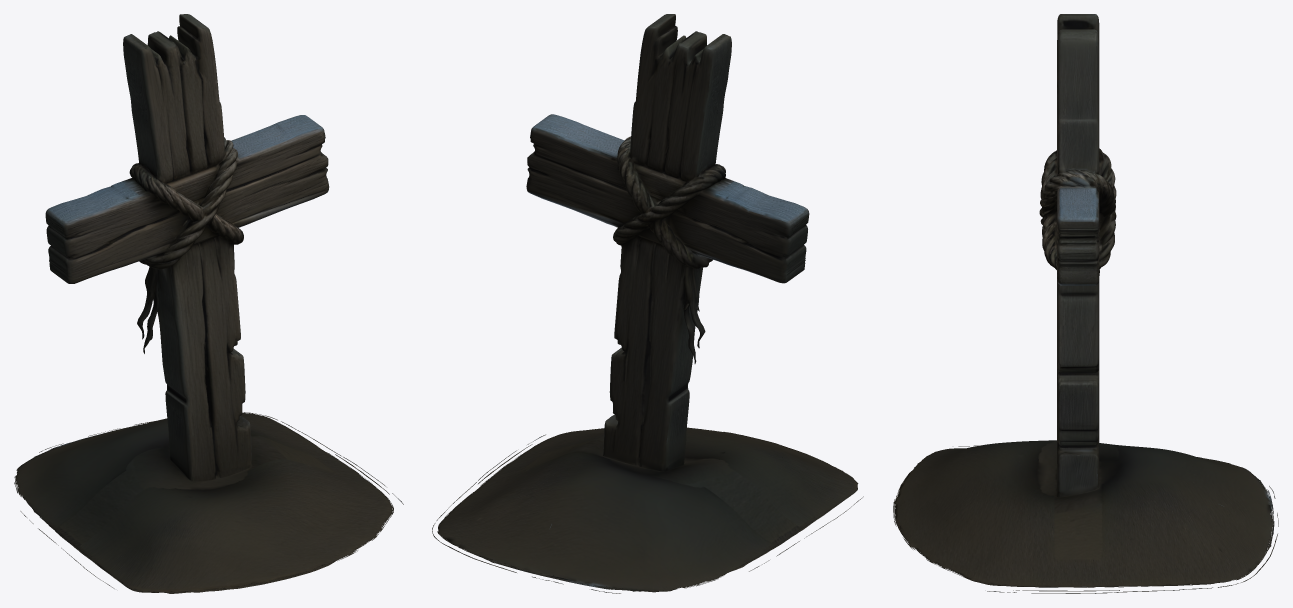
Rendered from Woodengravemarker2.glb.
3 views of the same model, side by side, from view 1: azimuth 30°, elevation 25°; view 2: azimuth 150°, elevation 25°; view 3: azimuth 270°, elevation 25° (orthographic). The views are drawn at different scales.
Parts seen in each view (by area): view 1: node_0; view 2: node_0; view 3: node_0.
Part boxes in pixels (x1,y1,x2,y2): node_0: [14, 14, 403, 593]; node_0: [432, 14, 863, 593]; node_0: [893, 14, 1278, 593].
Bounding box in the file's own units: 0.6099 × 0.9222 × 0.6702.
Materials: 1 (1 with a texture image).
